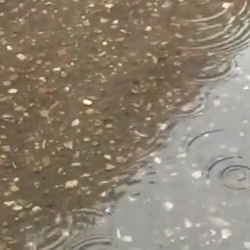drop: (180, 50, 235, 81), (210, 155, 249, 192), (162, 85, 206, 115), (74, 235, 115, 250)
